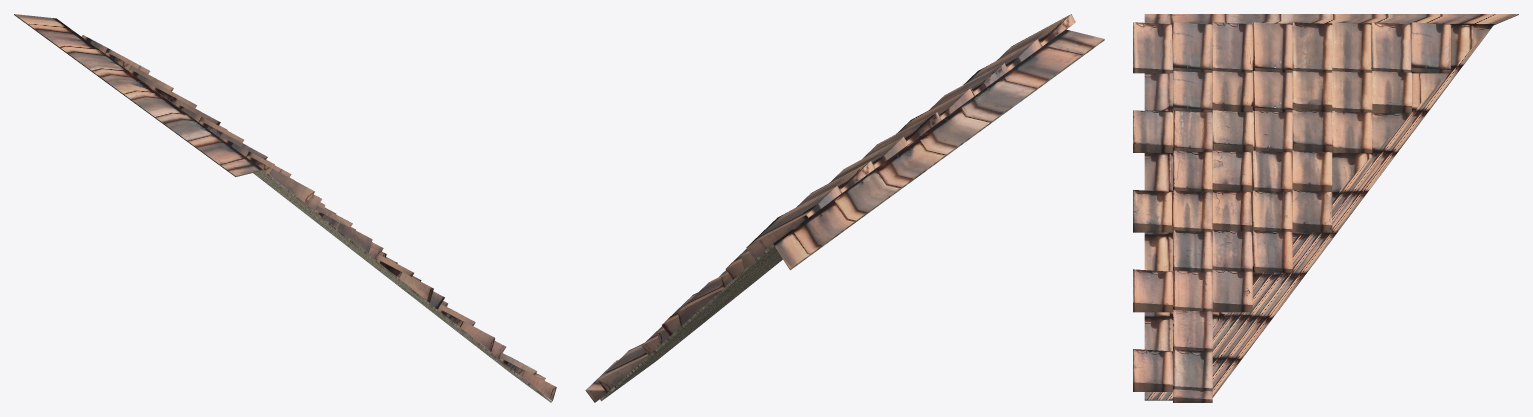
Rendered from ShingleB.fbx.
The picture shows the model from 3 angles, left to right: view 1: azimuth 30°, elevation 25°; view 2: azimuth 150°, elevation 25°; view 3: azimuth 270°, elevation 25°; orthographic projection. The views are drawn at different scales.
Parts seen in each view (by area): view 1: ShingleB; view 2: ShingleB; view 3: ShingleB.
Boxes of the visible parts, bbox=[...] form: ShingleB: bbox=[14, 14, 556, 402]; ShingleB: bbox=[585, 14, 1104, 402]; ShingleB: bbox=[1133, 14, 1518, 402].
Bounding box in the file's own units: 517 × 469 × 626.
